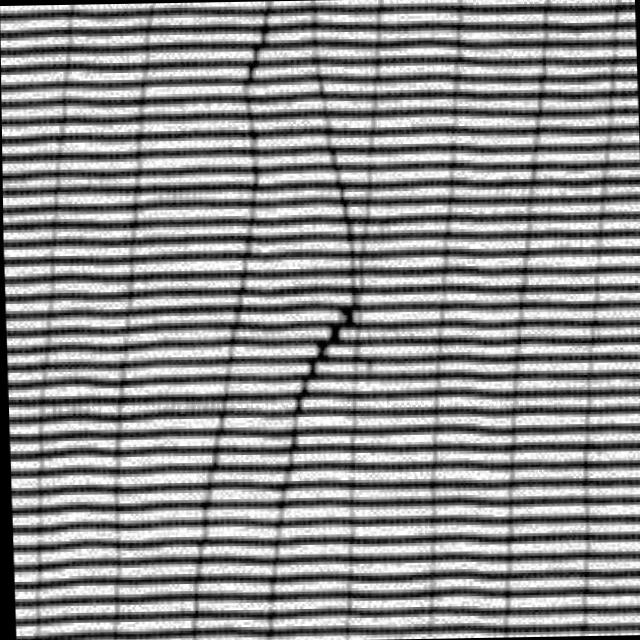Stitch: (252, 112, 391, 484)
